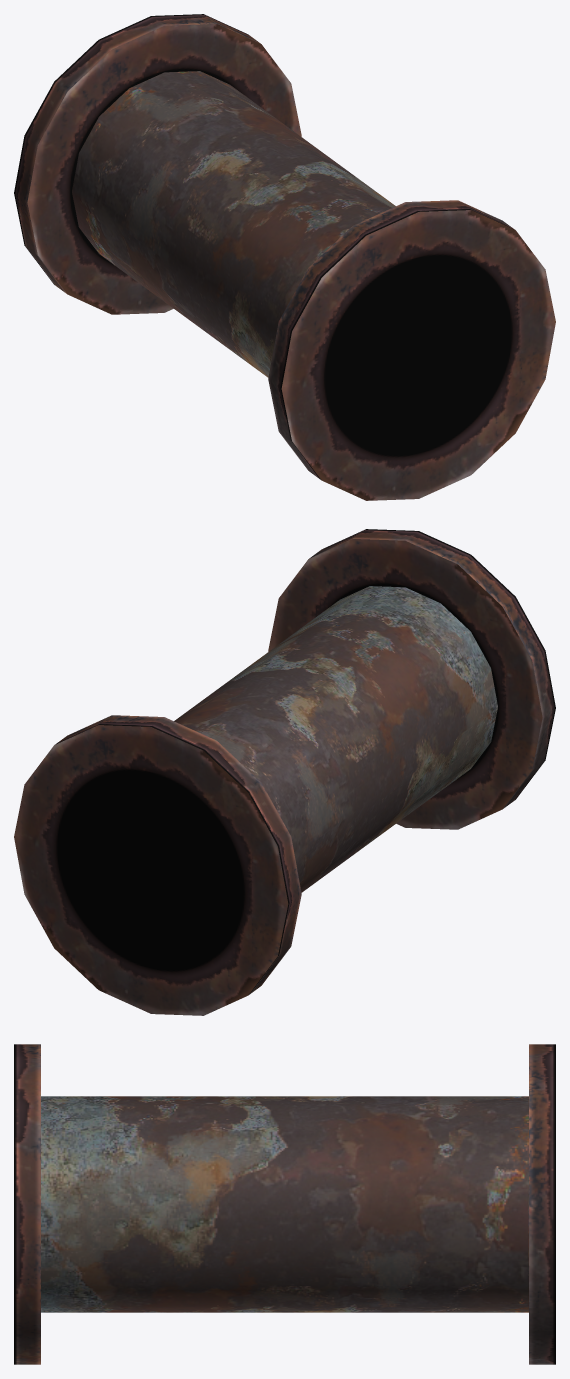
File: pipe03_100cm.fbx
The picture shows the model from 3 angles, top to bottom: view 1: azimuth 30°, elevation 25°; view 2: azimuth 150°, elevation 25°; view 3: azimuth 270°, elevation 25°; orthographic projection.
Visible parts, largest first — view 1: pipe03_100cm; view 2: pipe03_100cm; view 3: pipe03_100cm.
Boxes of the visible parts, x1=… form: pipe03_100cm: x1=14, y1=14, x2=555, y2=500; pipe03_100cm: x1=14, y1=529, x2=555, y2=1015; pipe03_100cm: x1=14, y1=1044, x2=555, y2=1364.
Bounding box in the file's own units: 59.2 × 59.2 × 100.
